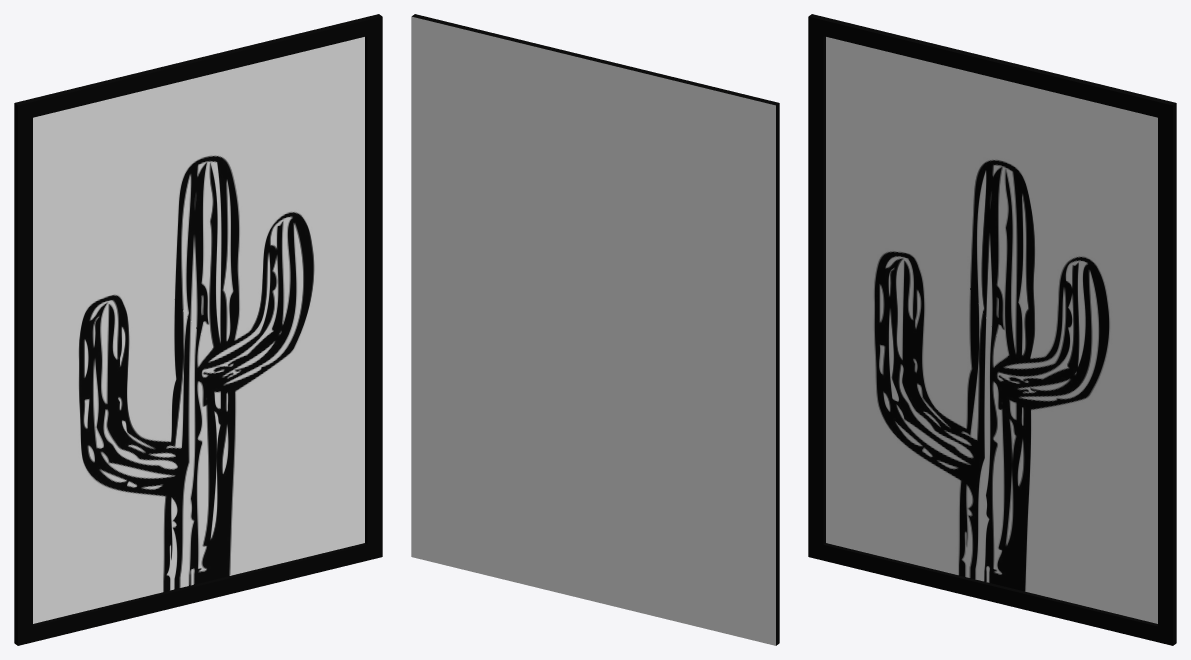
The model's file is Painting.gltf.
3 renders of one model, left to right at view 1: azimuth 30°, elevation 25°; view 2: azimuth 150°, elevation 25°; view 3: azimuth 330°, elevation 25°, orthographic.
Visible parts, largest first — view 1: Picture, Personal_Painting_01; view 2: Personal_Painting_01; view 3: Picture, Personal_Painting_01.
Part boxes in pixels (x1,y1,x2,y2): Picture: [33, 37, 364, 623]; Personal_Painting_01: [14, 14, 382, 645]; Personal_Painting_01: [411, 14, 779, 645]; Picture: [826, 37, 1157, 623]; Personal_Painting_01: [808, 14, 1176, 645].
Size of the model in its own units: 0.6 by 0.85 by 0.01.
Materials: 3 (1 with a texture image).
